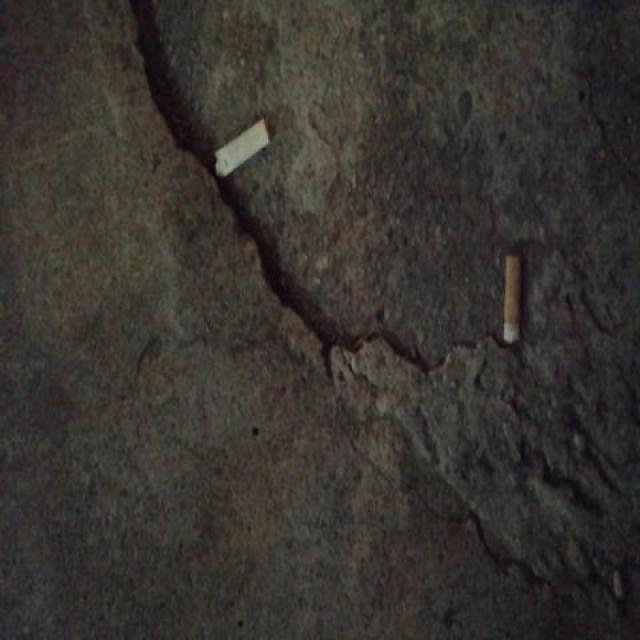non-organic waste: (212, 114, 275, 181), (502, 250, 525, 347)
